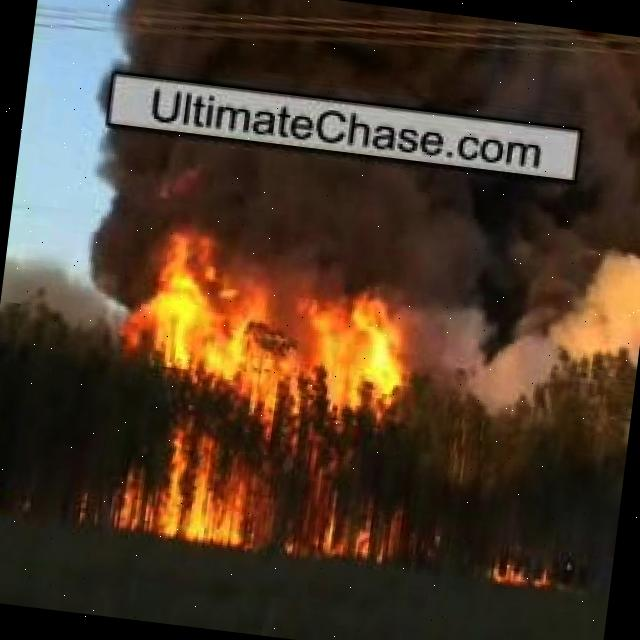fire: (116, 224, 434, 568), (485, 558, 556, 590)
